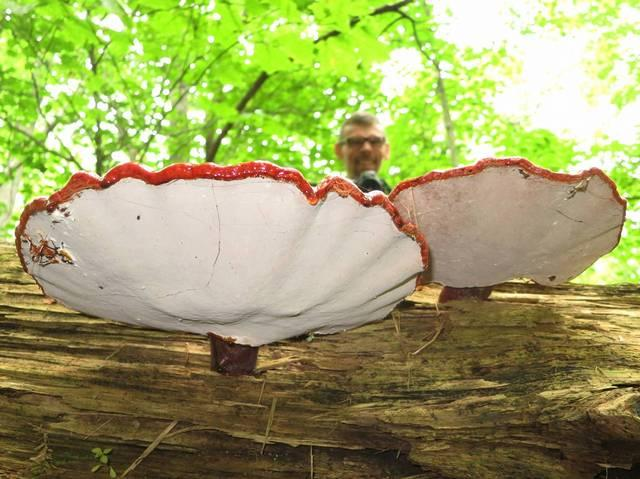poisonous_mushroom: (13, 154, 627, 375)
